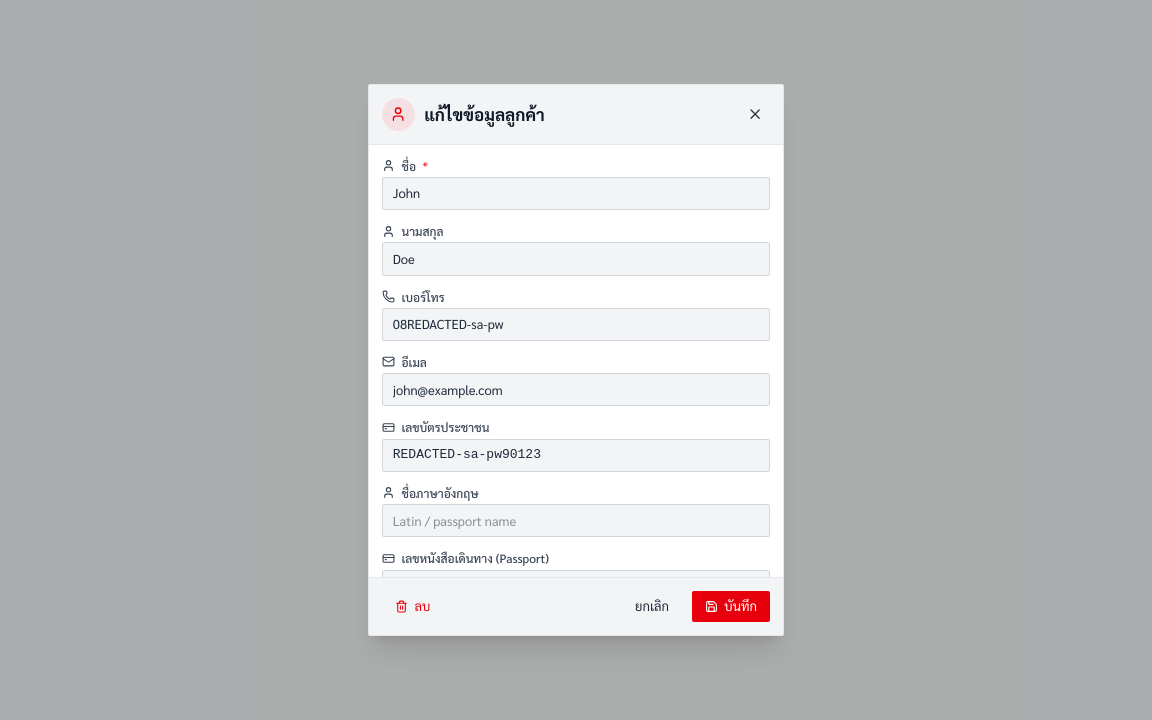
CustomerForm Component › Delete Functionality › hides delete confirmation when No is clicked
Click the button "ลบ" at (413, 606), box [382,591,443,622]
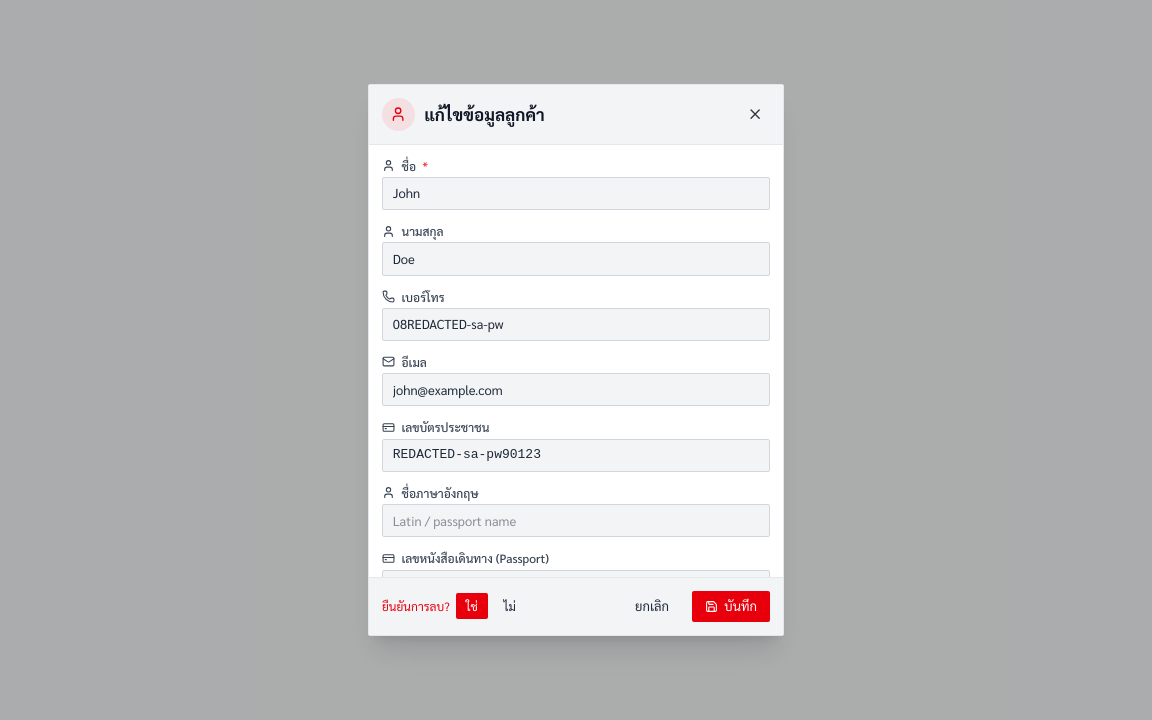
Click the button "ไม่" at (510, 606), box [494,593,526,619]
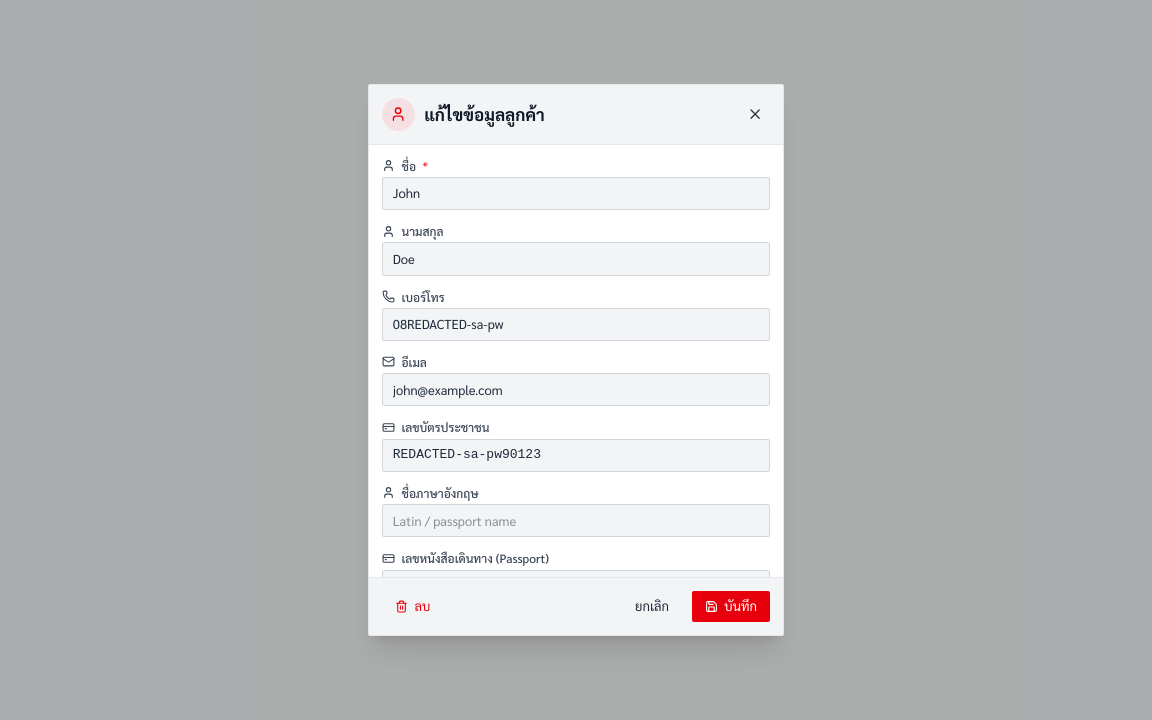
Expected: the button "ลบ" is shown, [382,591,443,622]
Now the text "ยืนยันการลบ?" is gone
